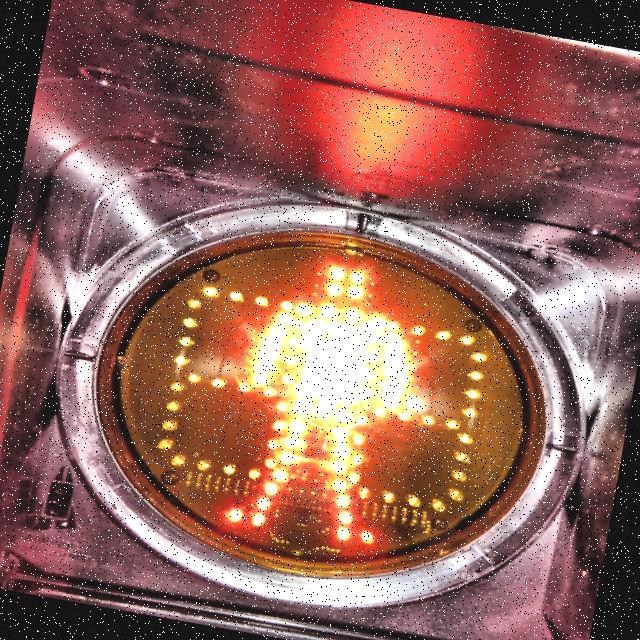red_light: (204, 243, 442, 564)
